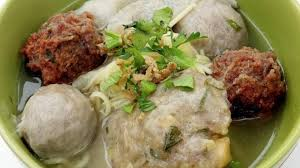bakso: (29, 10, 264, 160)
